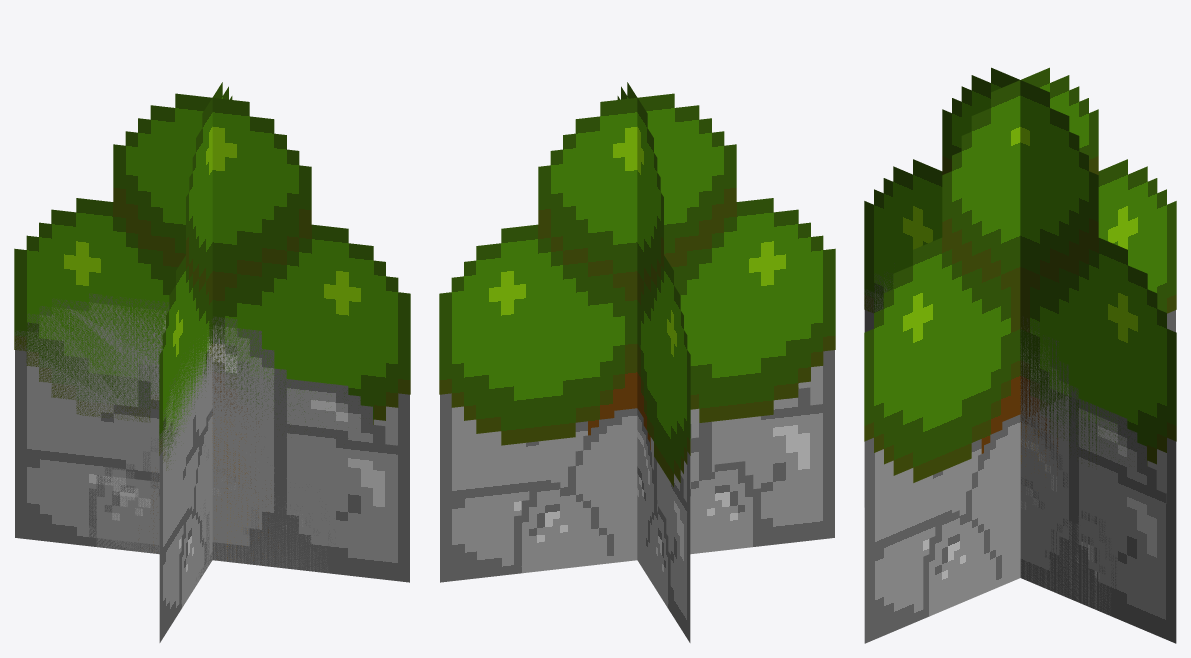
Rendered from Props.fbx.
The picture shows the model from 3 angles, left to right: view 1: azimuth 30°, elevation 25°; view 2: azimuth 150°, elevation 25°; view 3: azimuth 270°, elevation 25°; orthographic projection. The views are drawn at different scales.
Parts seen in each view (by area): view 1: Tree, Big_Stone, SmallStone; view 2: Tree, Big_Stone, SmallStone; view 3: Tree, Big_Stone, SmallStone.
Part boxes in pixels (<box>): Tree: <box>14,82,410,560</box>; Big_Stone: <box>15,293,409,642</box>; SmallStone: <box>89,408,333,611</box>; Tree: <box>439,82,835,487</box>; Big_Stone: <box>440,350,834,642</box>; SmallStone: <box>514,408,760,611</box>; Tree: <box>864,67,1176,482</box>; Big_Stone: <box>864,263,1176,643</box>; SmallStone: <box>923,414,1116,618</box>.
Size of the model in its own units: 170 by 170 by 299.
